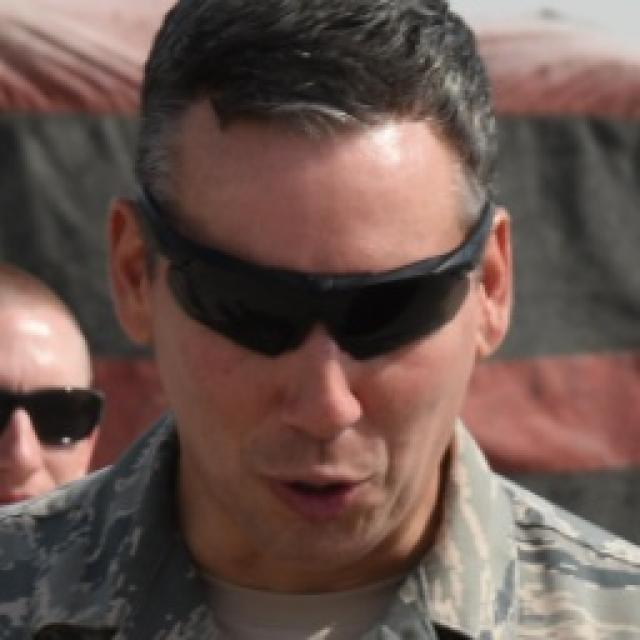glasses: (161, 210, 491, 362), (0, 379, 112, 463)
